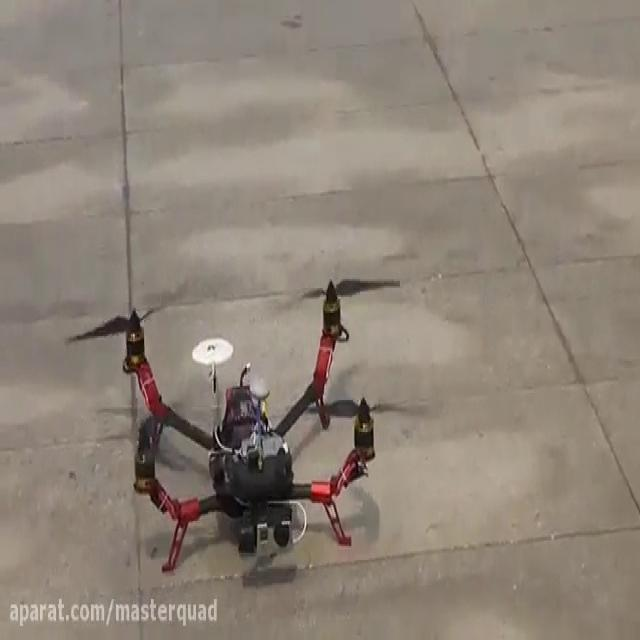drone: (61, 263, 433, 578)
